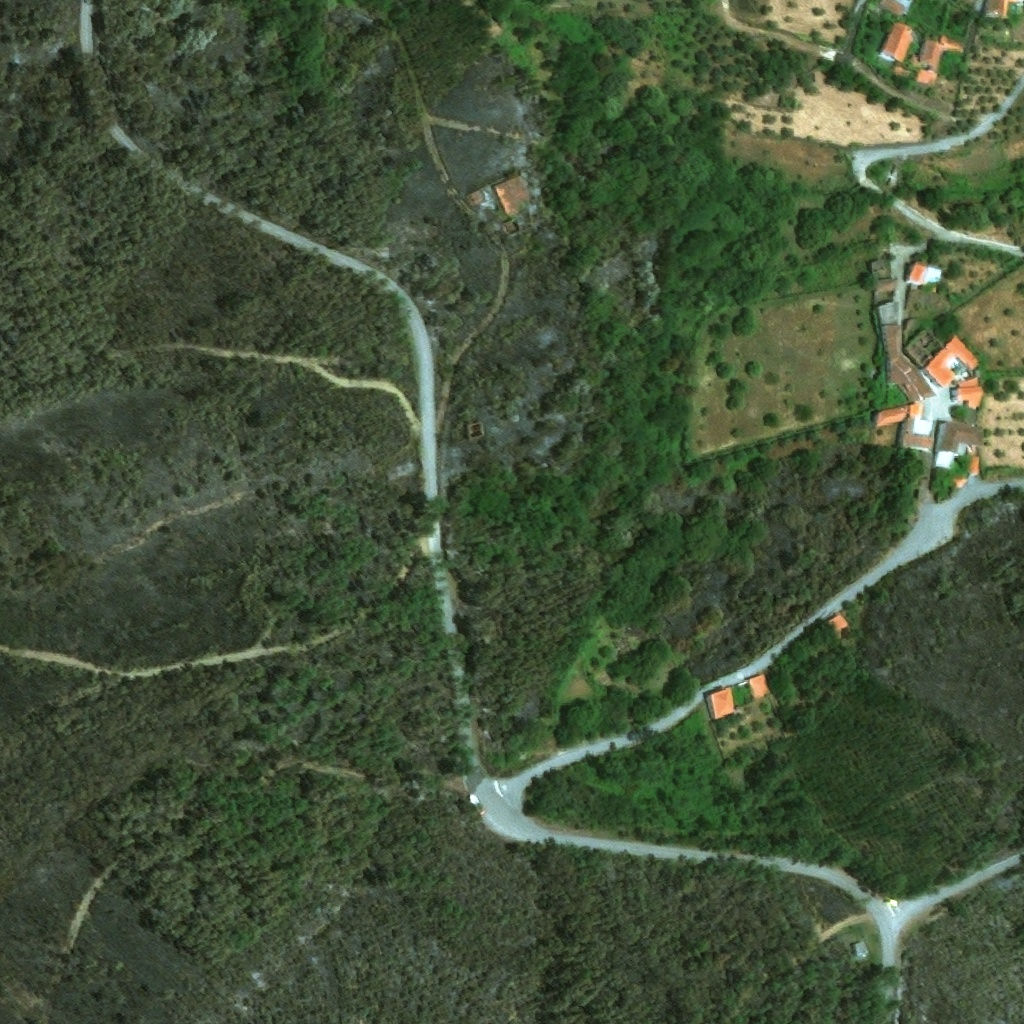0 no-damage: (922, 336, 981, 411), (878, 327, 933, 403), (870, 404, 934, 454), (912, 35, 964, 86), (932, 421, 981, 472), (878, 20, 915, 64), (903, 330, 942, 370), (490, 176, 528, 216), (702, 688, 735, 722), (743, 675, 768, 702), (823, 614, 849, 638), (904, 262, 926, 285), (876, 302, 898, 325), (871, 281, 894, 302), (849, 942, 866, 960), (964, 459, 978, 479), (869, 262, 885, 279), (885, 171, 897, 189), (948, 478, 963, 490), (894, 67, 905, 76)
3 destroyed: (464, 424, 482, 444)
4 un-classified: (879, 0, 920, 17), (986, 0, 1021, 16)
